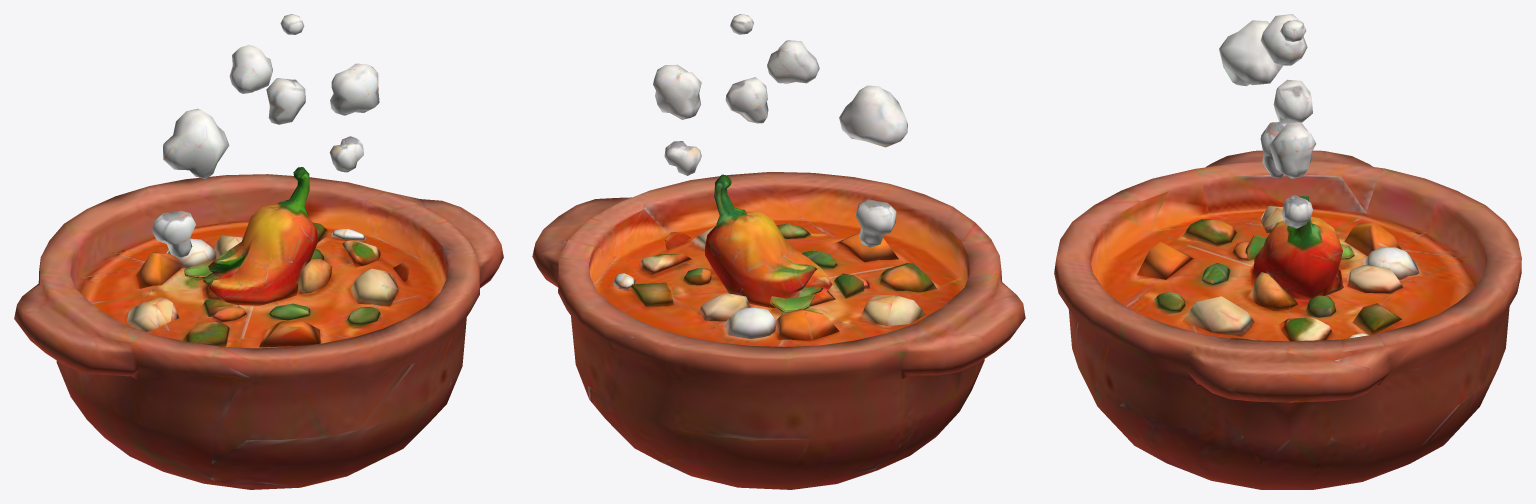
Rendered from item-emberStew.glb.
3 renders of one model, left to right at view 1: azimuth 30°, elevation 25°; view 2: azimuth 150°, elevation 25°; view 3: azimuth 270°, elevation 25°, orthographic. The views are drawn at different scales.
Size of the model in its own units: 0.9575 by 0.8652 by 0.8291.
1 material, 1 textured.
